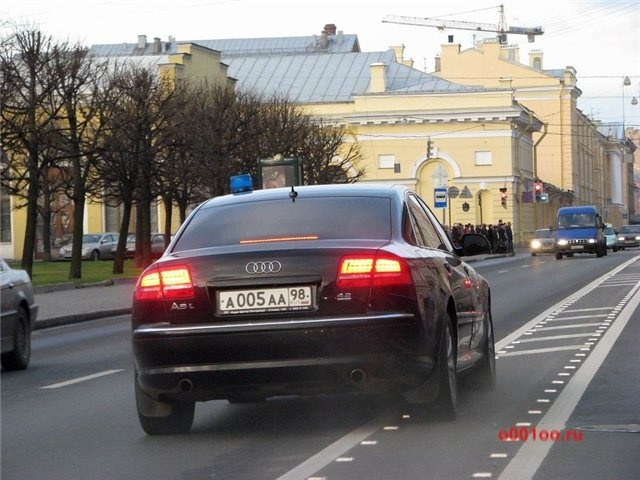car license plate: (214, 285, 314, 316)
